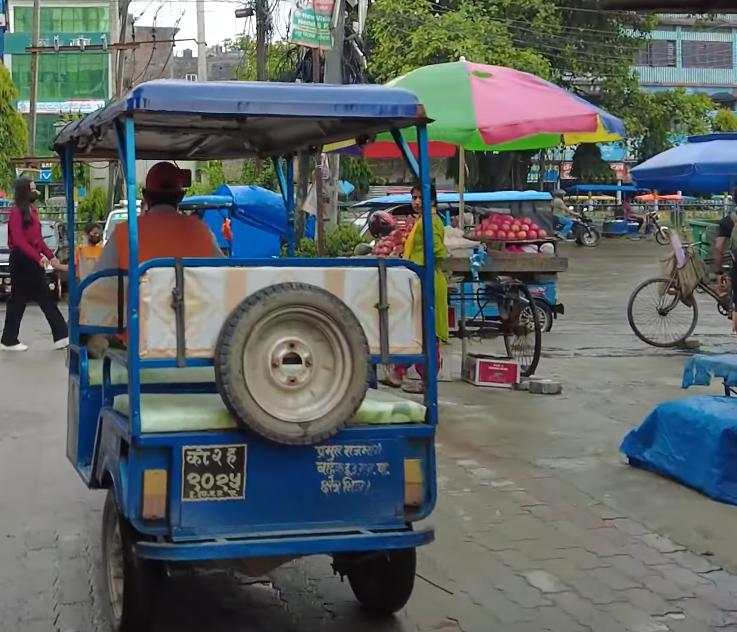e-rickshaw: (44, 61, 447, 632)
